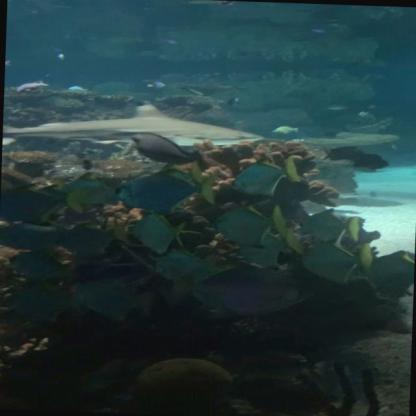fish: (195, 263, 313, 315), (117, 166, 219, 214), (77, 280, 155, 323), (301, 238, 374, 282), (0, 182, 73, 226), (233, 151, 303, 195), (9, 282, 81, 324), (131, 131, 206, 170), (218, 202, 284, 246), (361, 248, 414, 300), (239, 227, 302, 268), (60, 224, 129, 258), (0, 221, 72, 252), (133, 212, 187, 253), (52, 173, 115, 207), (299, 207, 360, 241), (157, 250, 216, 283), (10, 252, 68, 280), (13, 78, 51, 95), (270, 124, 300, 136), (324, 102, 348, 112), (66, 85, 90, 93), (144, 80, 165, 89), (310, 27, 326, 34), (164, 39, 180, 45), (56, 52, 66, 61), (5, 60, 13, 70)
shark: (3, 97, 267, 150)
